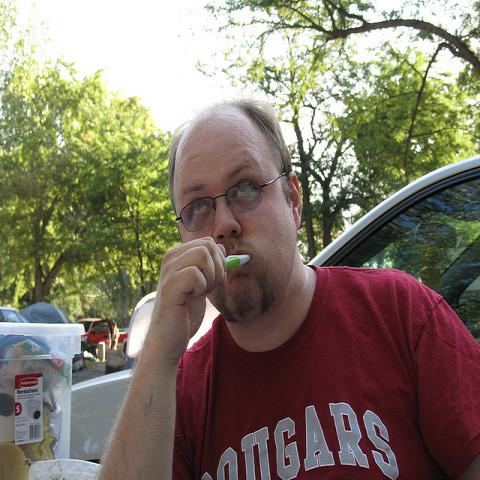car: (72, 158, 479, 460), (0, 306, 30, 323)
truck: (76, 316, 129, 357)
